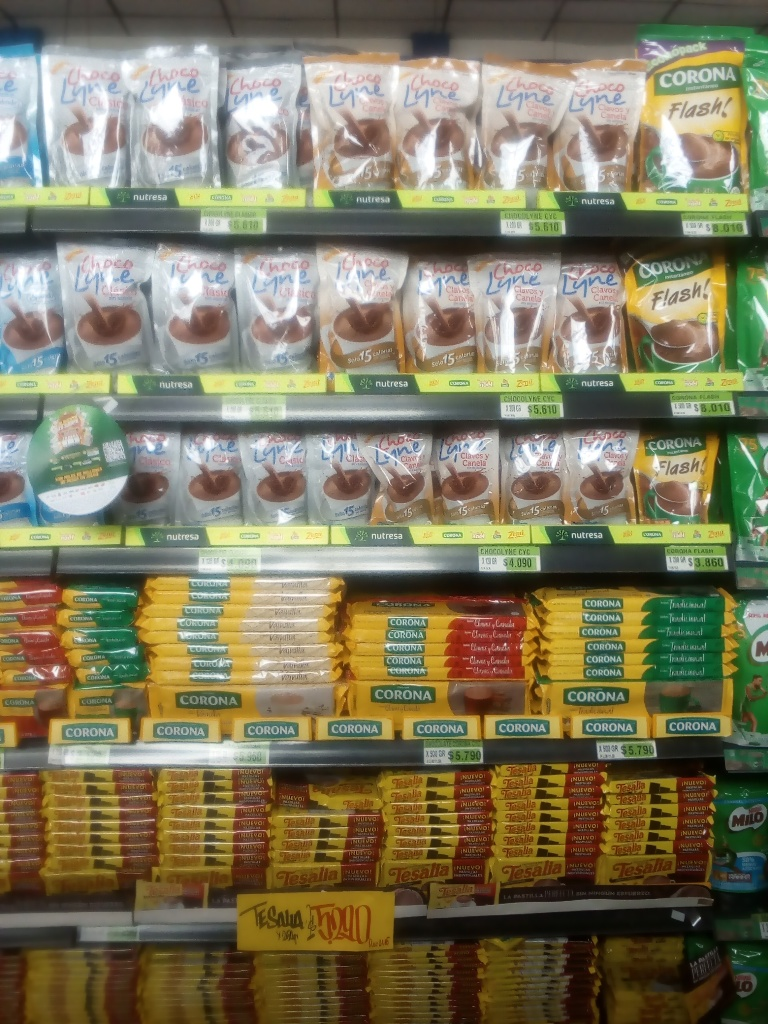COL0170205DYP20000: (718, 781, 767, 897)
COL0170205DYP50000: (733, 598, 766, 741)
